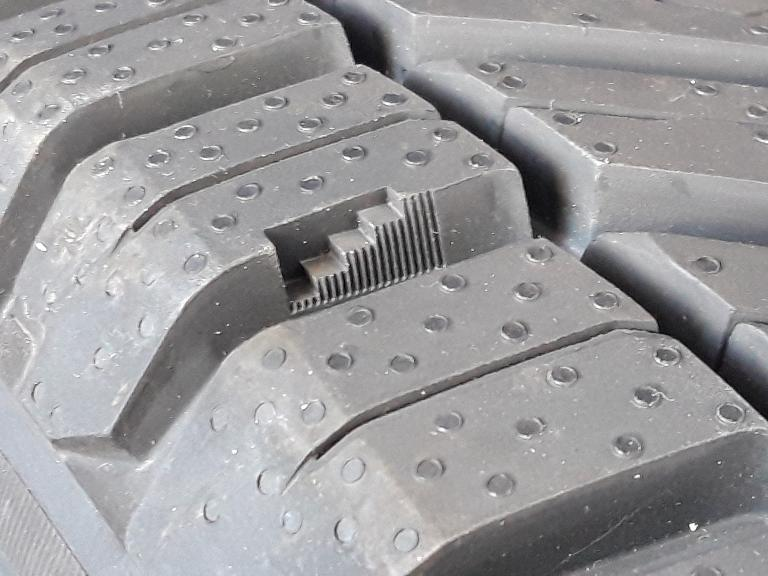temoin:100: (256, 176, 455, 322)
